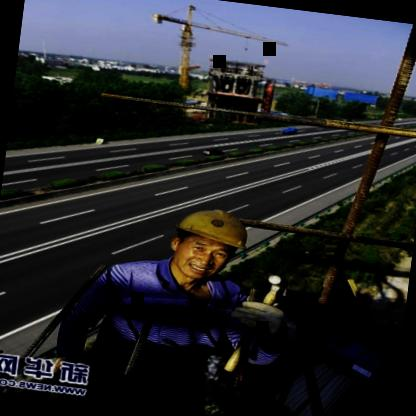helmet: (158, 198, 260, 288)
